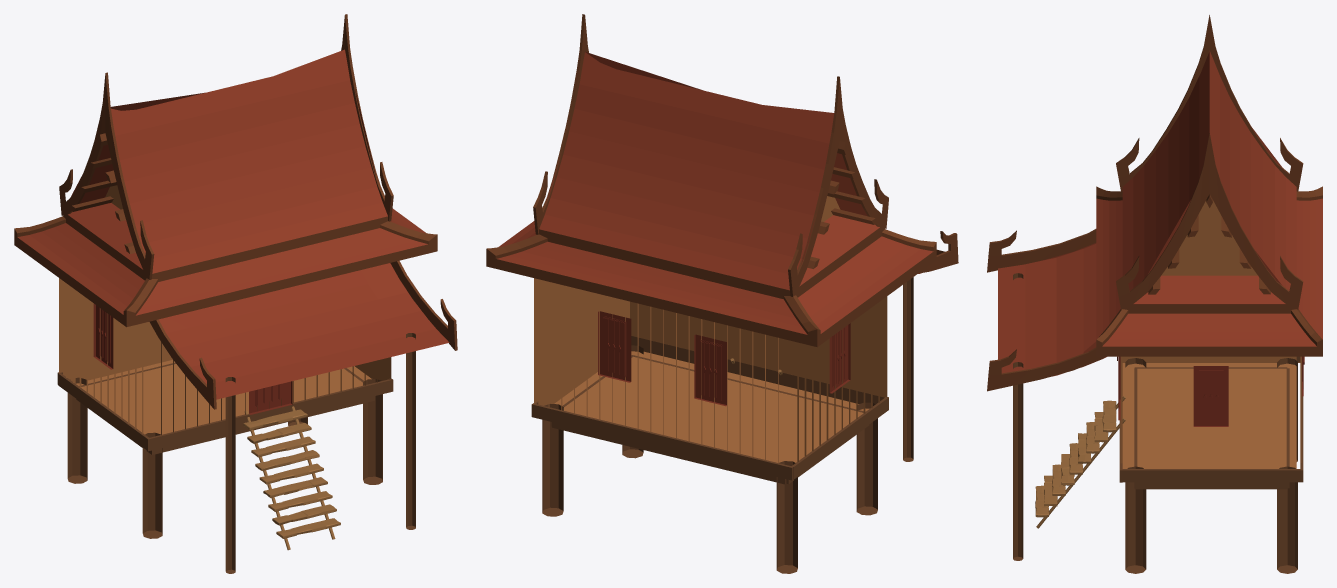
Rendered from thai_house4.glb.
3 renders of one model, left to right at view 1: azimuth 30°, elevation 25°; view 2: azimuth 150°, elevation 25°; view 3: azimuth 270°, elevation 25°, orthographic. The views are drawn at different scales.
Visible parts, largest first — view 1: thai_house4; view 2: thai_house4; view 3: thai_house4.
Part boxes in pixels (x1=…): thai_house4: x1=14, y1=14, x2=457, y2=573; thai_house4: x1=486, y1=14, x2=958, y2=573; thai_house4: x1=987, y1=15, x2=1322, y2=573.
Bounding box in the file's own units: 6.24 × 8.42 × 5.77.
